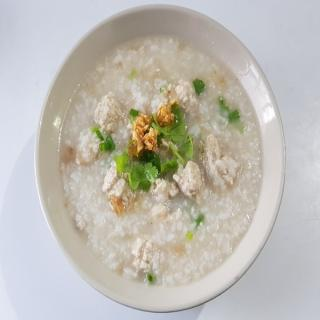boiled_rice: (38, 17, 274, 308)
carbs: (39, 73, 101, 282), (92, 33, 248, 106), (161, 205, 267, 284)
meat: (198, 134, 240, 196), (100, 160, 130, 216), (92, 90, 123, 136), (174, 160, 207, 203), (134, 236, 159, 274), (178, 80, 201, 119)
veg: (121, 101, 194, 183)
